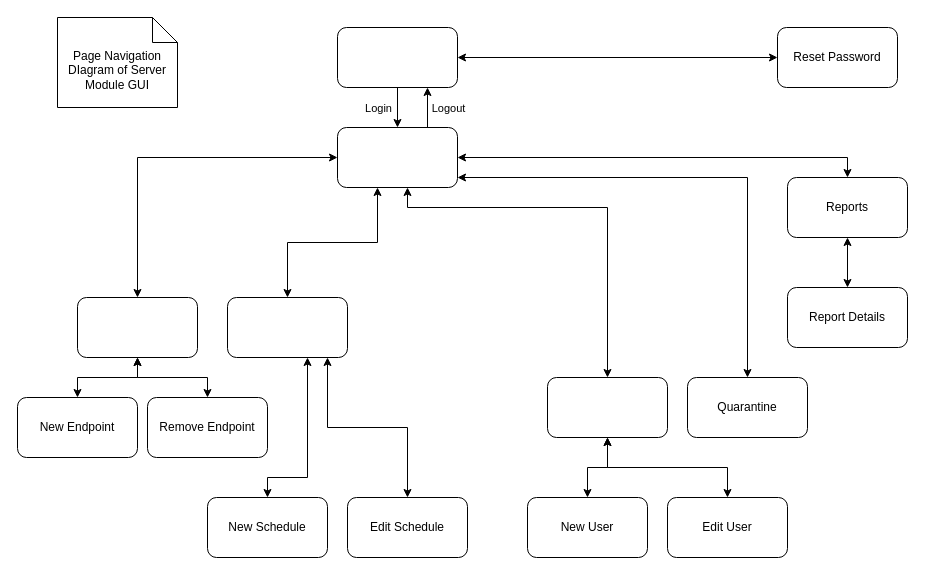
Some shapes in this 925 by 575 pixel diagram are drawn without their labels. Here are the shapes that lost their labels. From the top down, the box of each, then its label:
(336, 26, 458, 88): Login Page
(336, 126, 458, 188): Dashboard
(76, 296, 198, 358): Endpoints
(226, 296, 348, 358): Scan Schedule
(546, 376, 668, 438): Users
